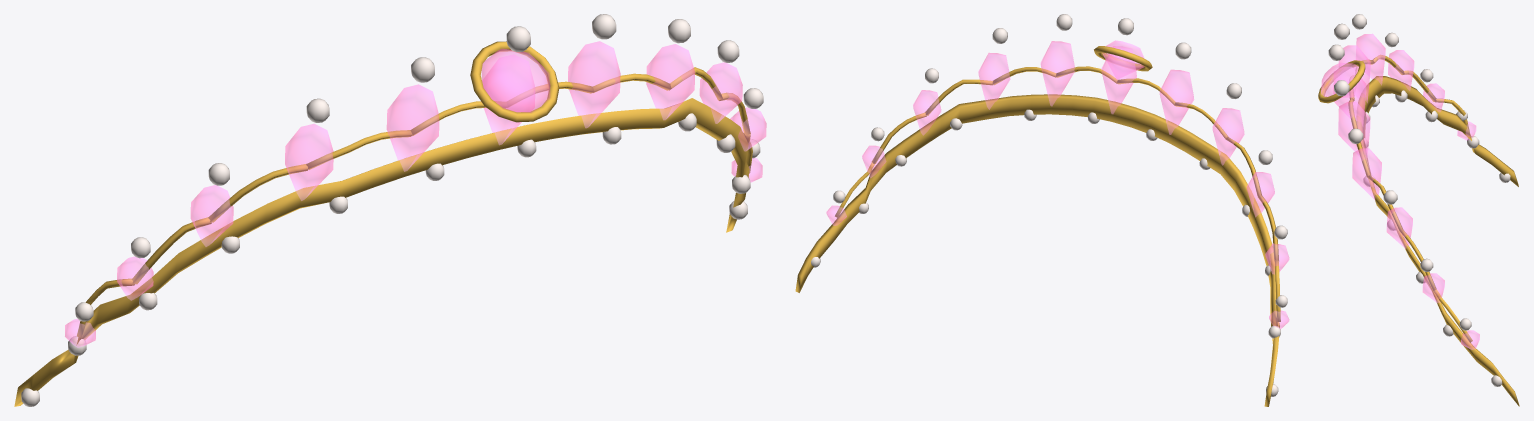
Rendered from tiara.glb.
The picture shows the model from 3 angles, left to right: view 1: azimuth 30°, elevation 25°; view 2: azimuth 150°, elevation 25°; view 3: azimuth 270°, elevation 25°; orthographic projection. The views are drawn at different scales.
Parts seen in each view (by area): view 1: tiara; view 2: tiara; view 3: tiara.
Boxes of the visible parts, bbox=[...] form: tiara: bbox=[14, 14, 766, 406]; tiara: bbox=[795, 14, 1289, 406]; tiara: bbox=[1318, 14, 1519, 406].
Size of the model in its own units: 0.2446 by 0.1288 by 0.0932.
